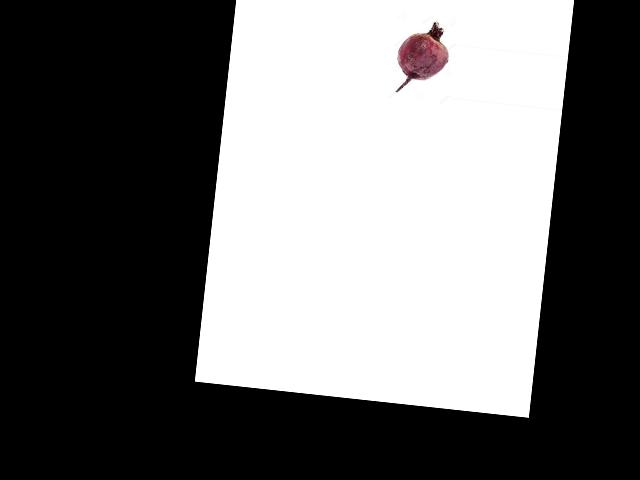beet: (393, 17, 451, 97)
